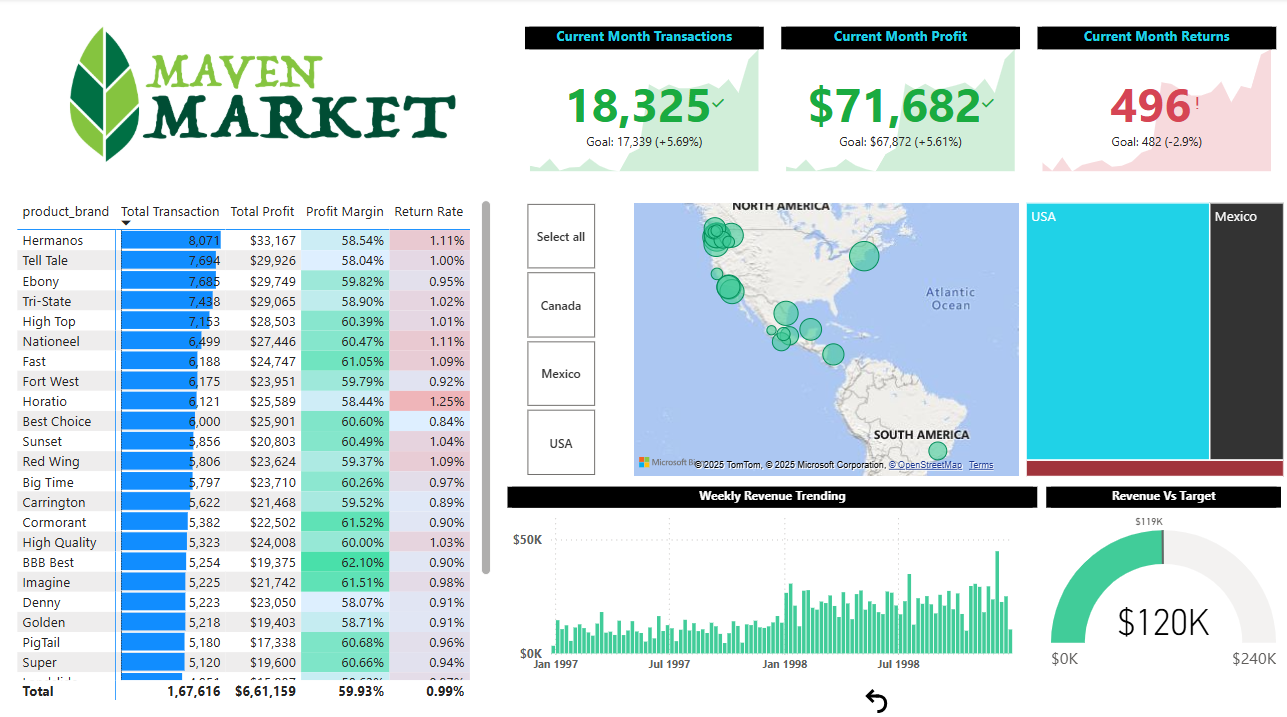

Layout of this report page (visuals, bound fields, positions):
{"tool":"powerbi","page":{"name":"Topline Performance","canvas":[1280,720],"ordinal":0},"visuals":[{"type":"image","box":[12.8,14.2,494.9,163.6],"z":0},{"type":"pivotTable","fields":{"Rows":["Products.product_brand"],"Values":["Transaction_Data.Total Transaction","Transaction_Data.Total Profit","Transaction_Data.Profit Margin","Return_Data.Return Rate"]},"box":[12.8,196.3,480.7,507.7],"z":1000},{"type":"kpi","title":"Current Month Transactions","fields":{"Indicator":["Transaction_Data.Total Transaction"],"TrendLine":["Calendar.Start of Month"],"Goal":["Transaction_Data.Last Month Transactions"]},"box":[522,28.4,237.5,149.3],"z":2000},{"type":"kpi","title":"Current Month Profit","fields":{"TrendLine":["Calendar.Start of Month"],"Indicator":["Transaction_Data.Total Profit"],"Goal":["Transaction_Data.Last Month Profit"]},"box":[777.2,28.4,237.5,149.3],"z":3000},{"type":"kpi","title":"Current Month Returns","fields":{"TrendLine":["Calendar.Start of Month"],"Indicator":["Return_Data.Total Returns"],"Goal":["Return_Data.Last Month Returns"]},"box":[1032.5,28.4,237.5,149.3],"z":4000},{"type":"map","title":"Header","fields":{"Category":["Stores.store_city"],"Size":["Transaction_Data.Total Transaction"]},"box":[625.7,199,393.1,282.4],"z":5000},{"type":"slicer","fields":{"Values":["Customers.customer_country"]},"box":[502.6,197.8,109.5,283.6],"z":6000},{"type":"treemap","fields":{"Group":["Stores.store_country","Stores.store_state","Stores.store_city"],"Values":["Transaction_Data.Total Transaction"]},"box":[1018.8,199,261.2,282.4],"z":7000},{"type":"columnChart","title":"Weekly Revenue Trending","fields":{"Y":["Transaction_Data.Total Revenue"],"Category":["Calendar.Start of Week Hierarchy.Start of Week"]},"box":[505,486.4,527.4,194.1],"z":8000},{"type":"gauge","title":"Revenue Vs Target","fields":{"Y":["Transaction_Data.Total Revenue"],"TargetValue":["Transaction_Data.Revenue Target"]},"box":[1041.2,486.4,233.9,194.1],"z":9000},{"type":"actionButton","box":[855.8,682.9,31.1,32.3],"z":10000}]}

Visuals, with their boxes in screenshot pixels (x1, y1, x2, y2), scaled from the page's 1280x720 canvas onto the 1287x717 screenshot:
image: x1=13 y1=14 x2=510 y2=177
pivotTable - Products.product_brand x Transaction_Data.Total Transaction: x1=13 y1=195 x2=496 y2=701
"Current Month Transactions" kpi: x1=525 y1=28 x2=764 y2=177
"Current Month Profit" kpi: x1=781 y1=28 x2=1020 y2=177
"Current Month Returns" kpi: x1=1038 y1=28 x2=1277 y2=177
"Header" map: x1=629 y1=198 x2=1024 y2=479
slicer - Customers.customer_country: x1=505 y1=197 x2=615 y2=479
treemap - Stores.store_country x Stores.store_state: x1=1024 y1=198 x2=1286 y2=479
"Weekly Revenue Trending" columnChart: x1=508 y1=484 x2=1038 y2=678
"Revenue Vs Target" gauge: x1=1047 y1=484 x2=1282 y2=678
actionButton: x1=860 y1=680 x2=892 y2=712
